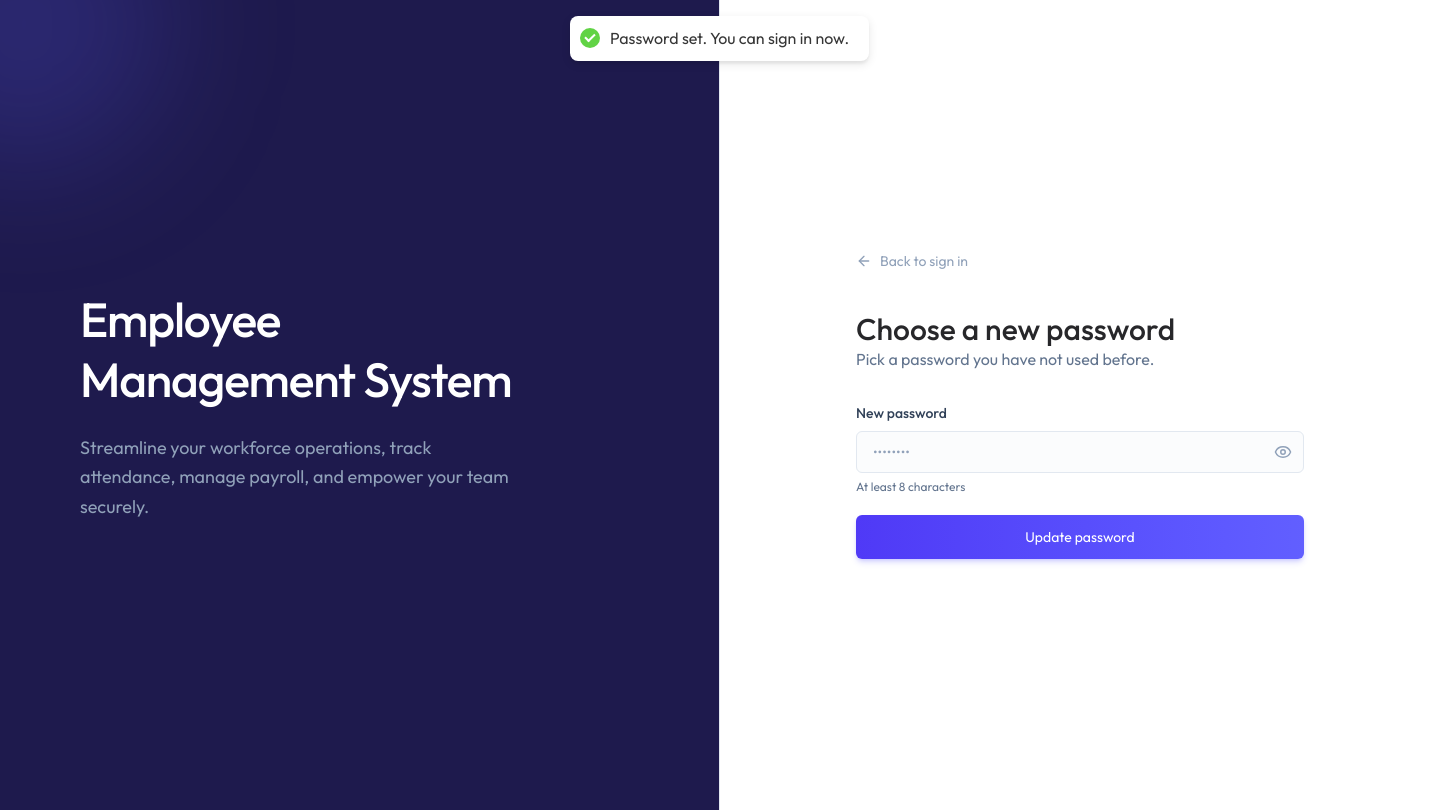
Test: ResetPasswordForm › keeps the form and shows a message when the server fails
The width and height of the screenshot is (1440, 810).
In the password field labelled "New password": {"x": 1080, "y": 452} [856,431,1304,473], type "Chosen#12345"
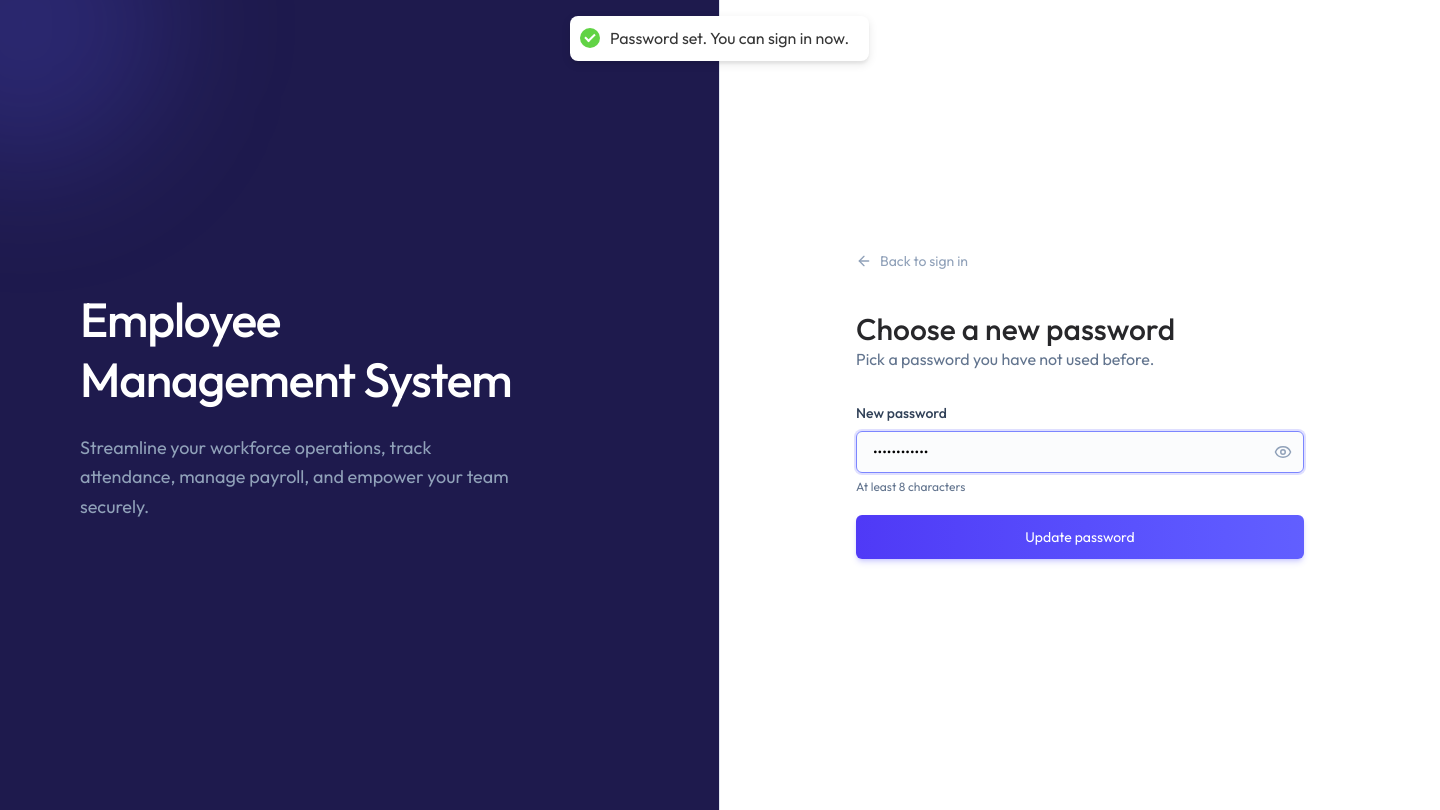
Click the button "Update password": {"x": 1080, "y": 537} [856,515,1304,559]
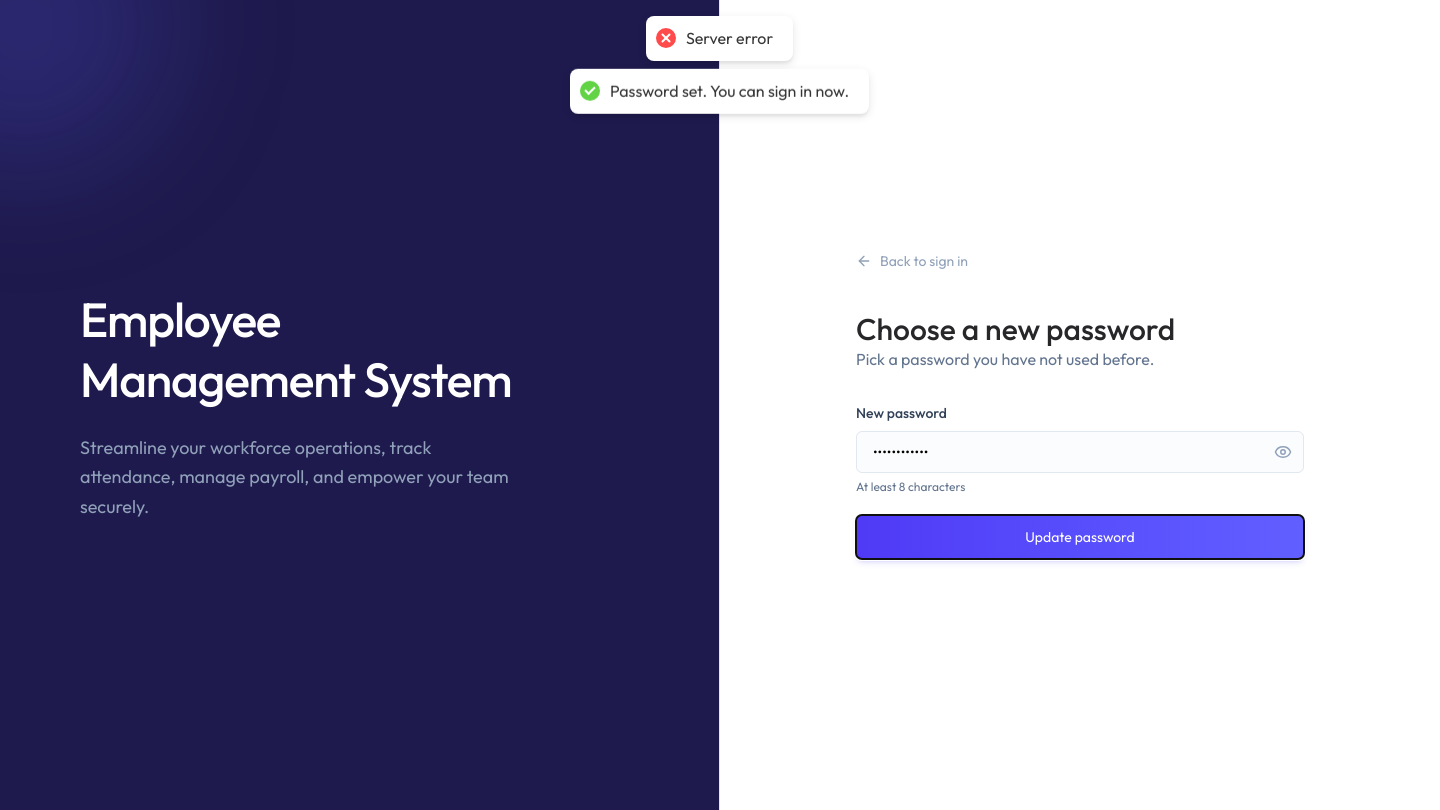
Result: the text "Server error" is shown at [686,28,774,49]
